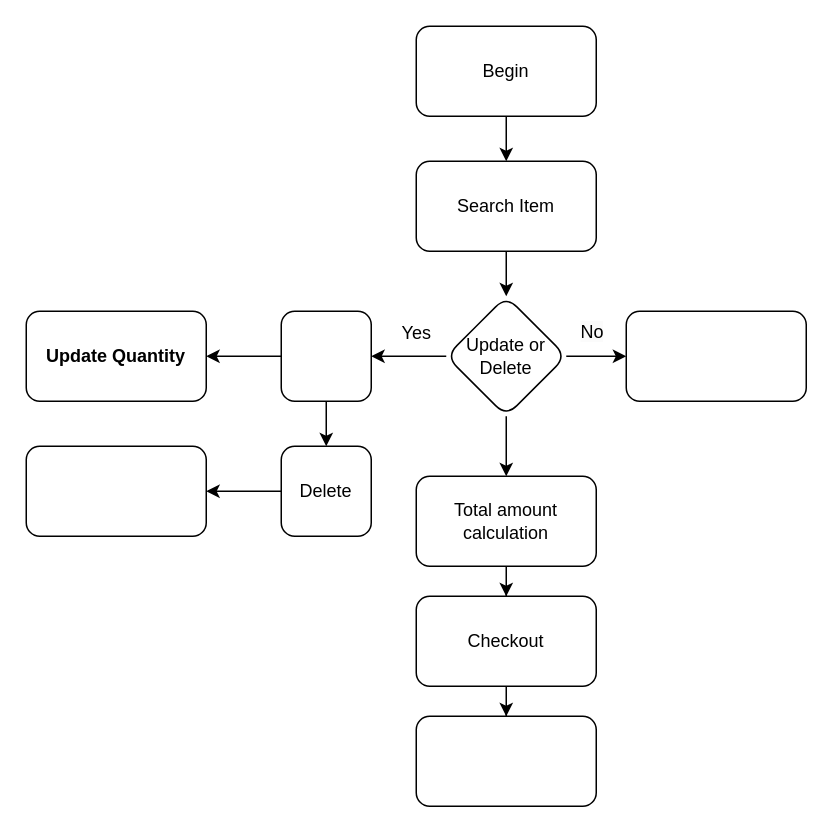
Image size: 833x833. Some labels were removed from this diagram. Each missing label, with the centre of its shape:
"Add to the Cart with Quantity and Price" goes at (x=715, y=355).
"End" goes at (x=505, y=760).
"Remove Item from Cart" goes at (x=115, y=490).
"Update" goes at (x=325, y=355).
